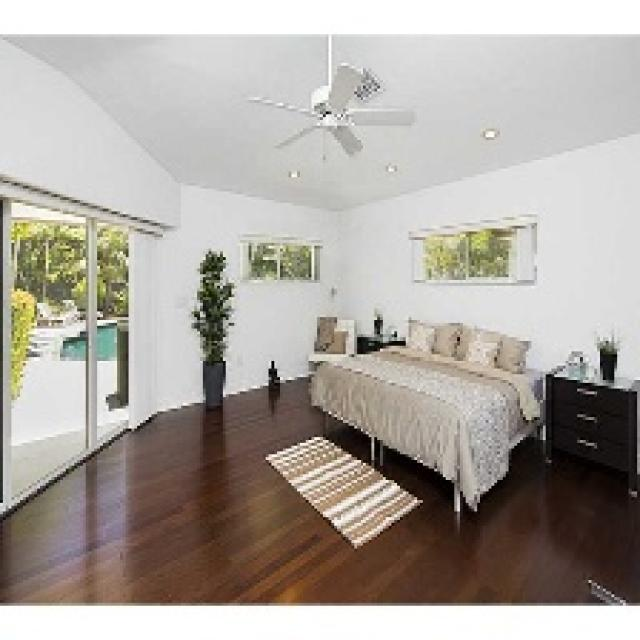Bed: (306, 317, 546, 512)
